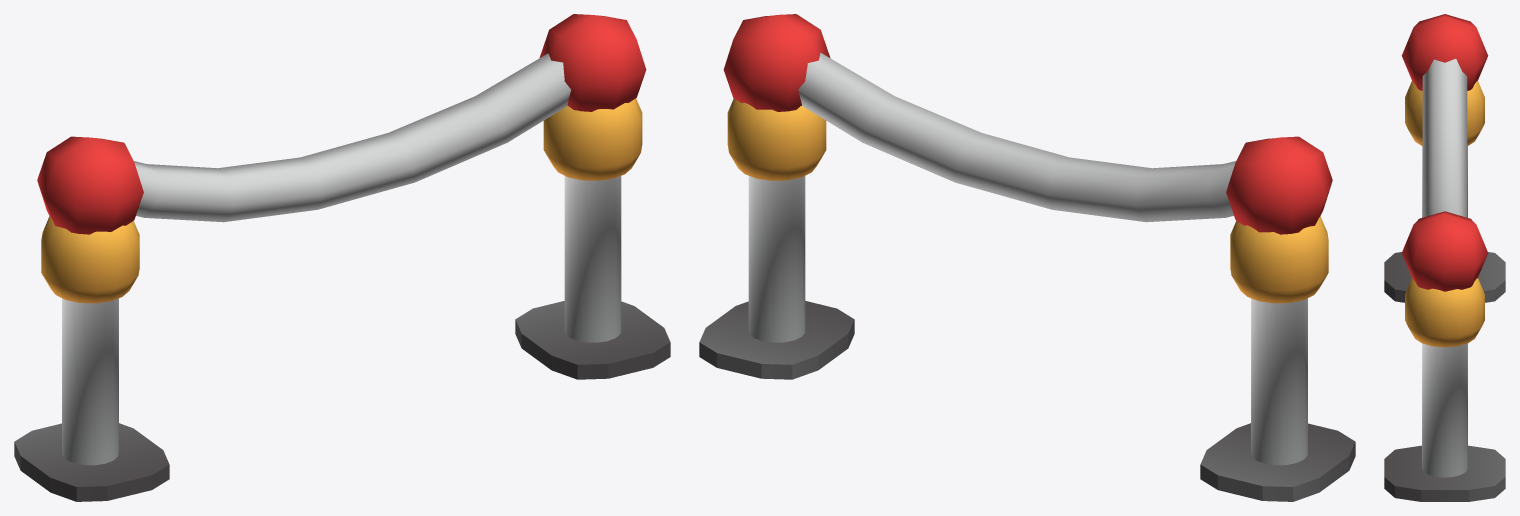
Rendered from Barrier.fbx.
3 renders of one model, left to right at view 1: azimuth 30°, elevation 25°; view 2: azimuth 150°, elevation 25°; view 3: azimuth 270°, elevation 25°, orthographic. The views are drawn at different scales.
Visible parts, largest first — view 1: Barrier; view 2: Barrier; view 3: Barrier.
Part boxes in pixels (left/top/right/bottom): Barrier: left=14, top=14, right=670, bottom=501; Barrier: left=699, top=14, right=1355, bottom=501; Barrier: left=1384, top=14, right=1505, bottom=501.
Bounding box in the file's own units: 351 × 181 × 74.98.
